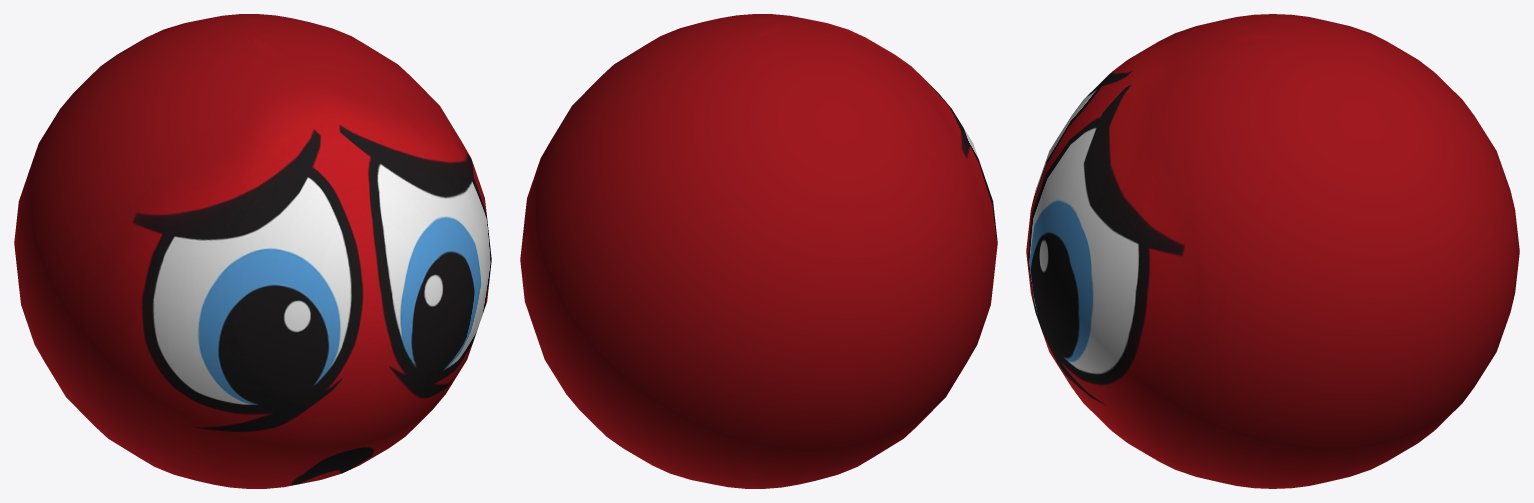
Rendered from distressed.glb.
The picture shows the model from 3 angles, left to right: view 1: azimuth 30°, elevation 25°; view 2: azimuth 150°, elevation 25°; view 3: azimuth 270°, elevation 25°; orthographic projection.
Parts seen in each view (by area): view 1: distressed; view 2: distressed; view 3: distressed.
Boxes of the visible parts, left/top/right/bottom form: distressed: left=14, top=14, right=491, bottom=488; distressed: left=520, top=14, right=997, bottom=488; distressed: left=1026, top=14, right=1519, bottom=488.
Bounding box in the file's own units: 1 × 1 × 1.04.
1 material, 1 textured.
